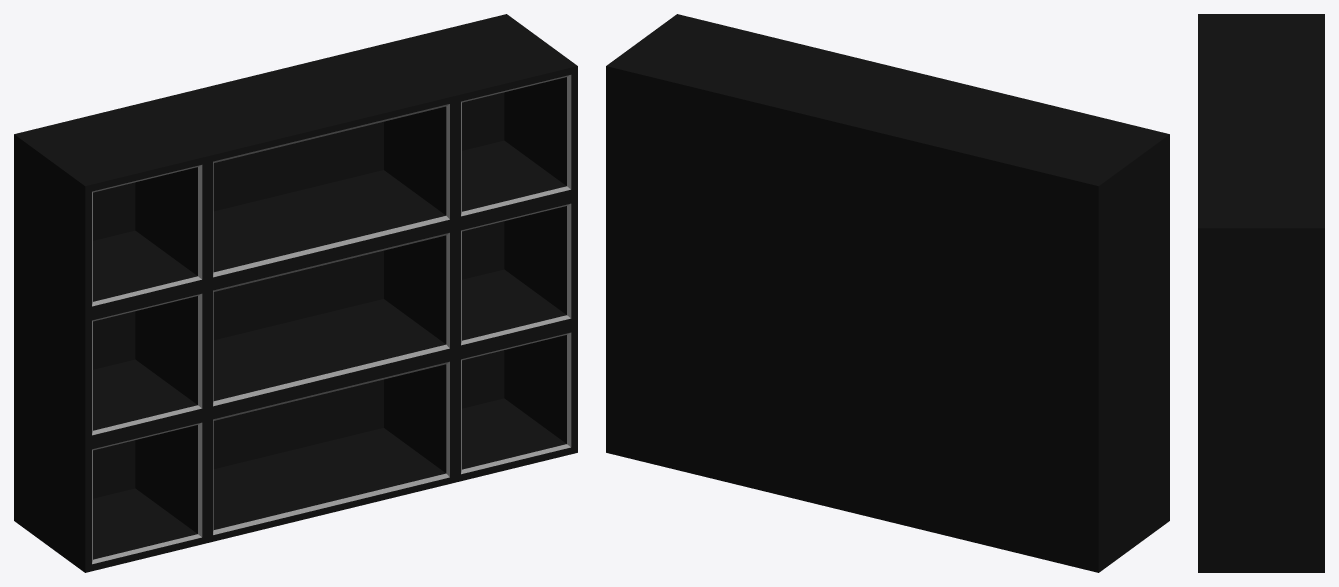
File: Prop_Shelve_02.fbx
The picture shows the model from 3 angles, left to right: view 1: azimuth 30°, elevation 25°; view 2: azimuth 150°, elevation 25°; view 3: azimuth 270°, elevation 25°; orthographic projection. The views are drawn at different scales.
Parts seen in each view (by area): view 1: Prop_Shelve_02; view 2: Prop_Shelve_02; view 3: Prop_Shelve_02.
Part boxes in pixels (bbox=[...]): Prop_Shelve_02: bbox=[14, 14, 577, 572]; Prop_Shelve_02: bbox=[606, 14, 1169, 572]; Prop_Shelve_02: bbox=[1198, 14, 1324, 572].
Size of the model in its own units: 200 by 150 by 50.
